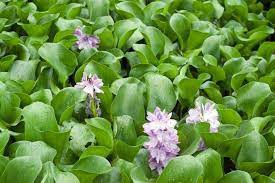water_hyacinth: (0, 0, 275, 183)
